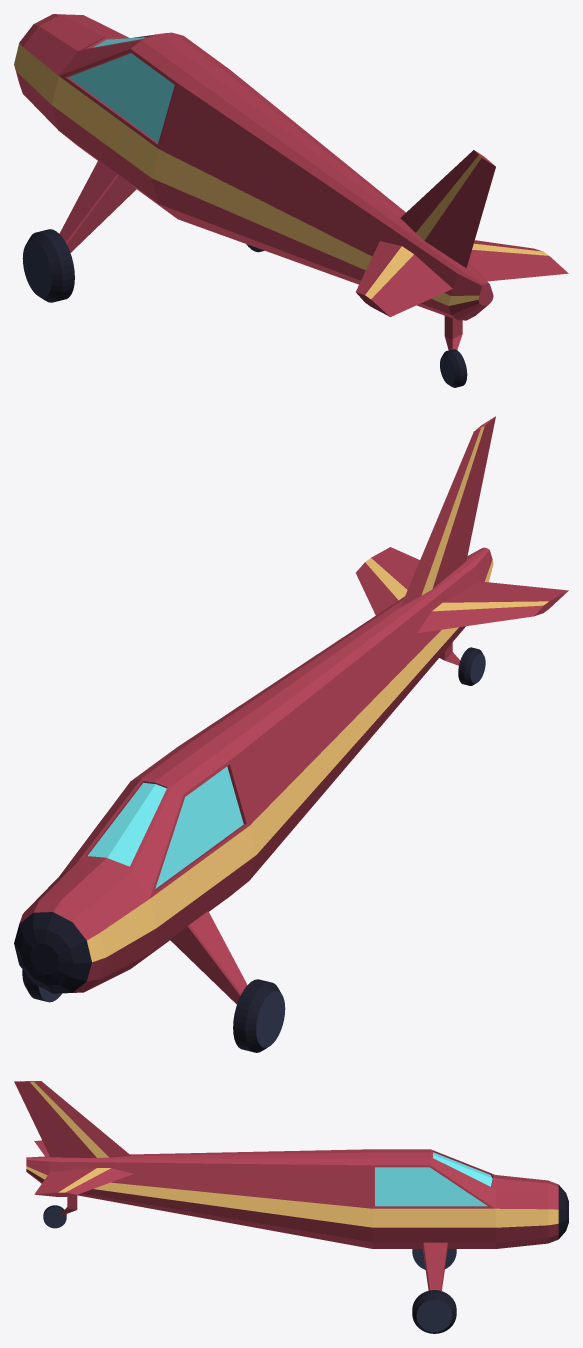
File: GovdeColorized.fbx
3 renders of one model, top to bottom at view 1: azimuth 30°, elevation 25°; view 2: azimuth 150°, elevation 25°; view 3: azimuth 270°, elevation 25°, orthographic. The views are drawn at different scales.
Visible parts, largest first — view 1: Circle.002, Cylinder, Cylinder.001; view 2: Circle.002, Cylinder, Cylinder.001; view 3: Circle.002, Cylinder, Cylinder.001.
Boxes of the visible parts, bbox=[...] form: Circle.002: bbox=[14, 14, 568, 350]; Cylinder: bbox=[22, 229, 264, 302]; Cylinder.001: bbox=[440, 349, 467, 387]; Circle.002: bbox=[14, 416, 568, 1004]; Cylinder: bbox=[22, 969, 285, 1052]; Cylinder.001: bbox=[458, 647, 485, 685]; Circle.002: bbox=[14, 1081, 568, 1290]; Cylinder: bbox=[412, 1249, 456, 1333]; Cylinder.001: bbox=[43, 1205, 66, 1228].
Size of the model in its own units: 281 by 411 by 941.
